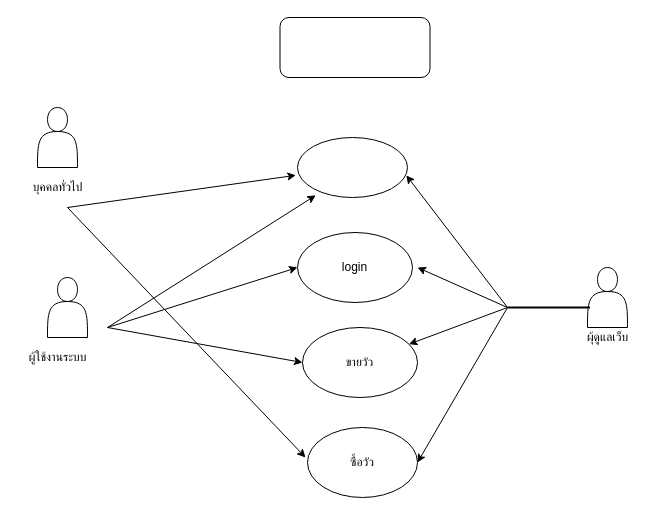
This 654x515 diagram has some shape labels left out. Here are the shapes that lost their labels. From the top down, the centre of each, then its label:
the point at 354,47: Oxes Trading
the point at 352,167: register
